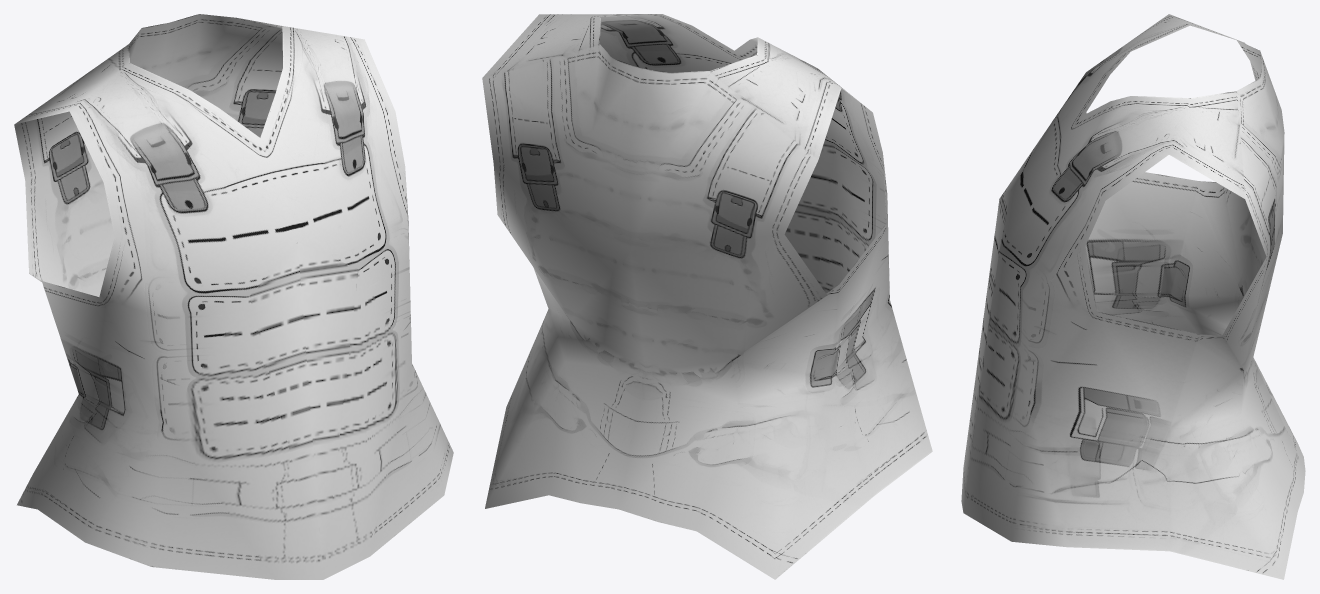
The model's file is FlakVest.glb.
3 renders of one model, left to right at view 1: azimuth 30°, elevation 25°; view 2: azimuth 150°, elevation 25°; view 3: azimuth 270°, elevation 25°, orthographic. The views are drawn at different scales.
Parts seen in each view (by area): view 1: FlakVest; view 2: FlakVest; view 3: FlakVest.
Boxes of the visible parts, <box> form: FlakVest: <box>14,14,453,579</box>; FlakVest: <box>482,14,932,579</box>; FlakVest: <box>961,14,1305,579</box>.
Bounding box in the file's own units: 5.41 × 6.47 × 4.48.
Materials: 1 (1 with a texture image).
